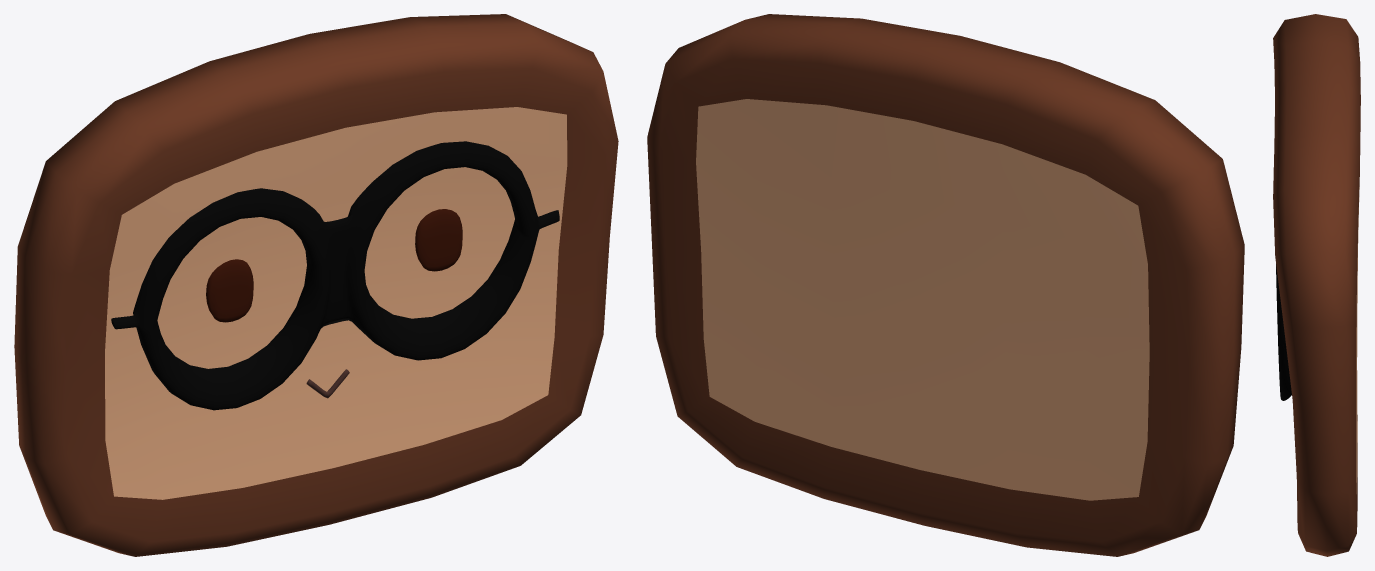
File: Ben.fbx
3 renders of one model, left to right at view 1: azimuth 30°, elevation 25°; view 2: azimuth 150°, elevation 25°; view 3: azimuth 270°, elevation 25°, orthographic. The views are drawn at different scales.
Visible parts, largest first — view 1: Cube, Torus.002, Cube.001; view 2: Cube; view 3: Cube, Torus.002.
Part boxes in pixels (x1,y1,x2,y2): Cube: (14, 14, 618, 556); Torus.002: (111, 141, 559, 410); Cube.001: (206, 209, 462, 322); Cube: (647, 14, 1244, 556); Cube: (1273, 14, 1360, 556); Torus.002: (1276, 264, 1291, 400).
Bounding box in the file's own units: 206 × 162 × 31.57.
